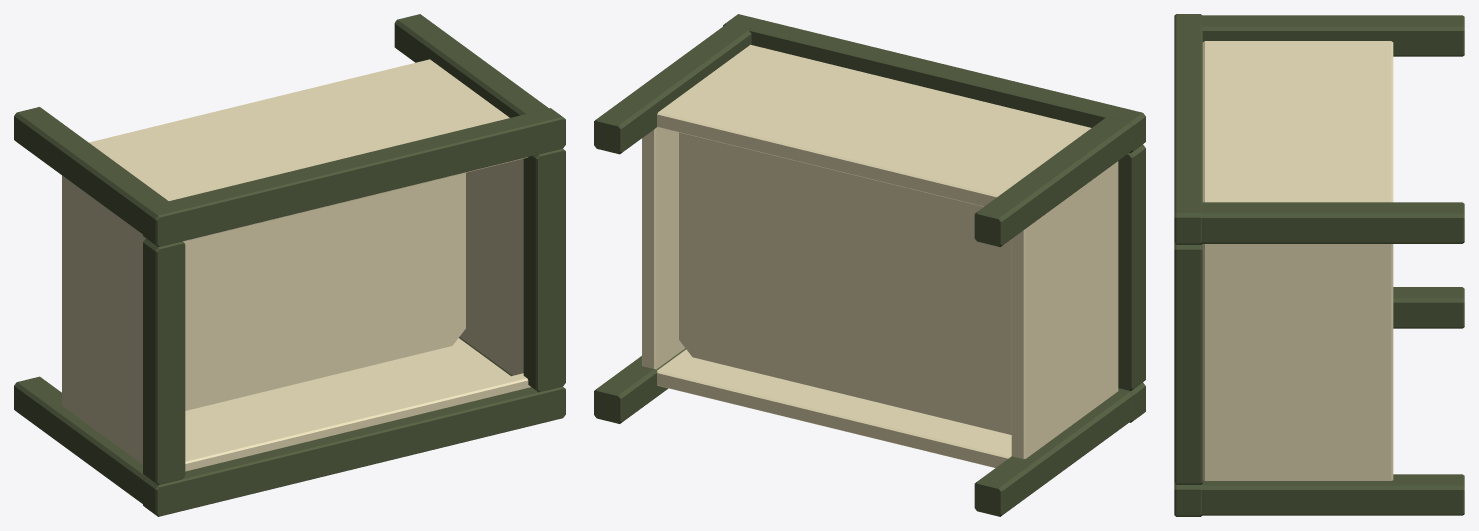
File: fixture_04_promotion_bin.glb
The picture shows the model from 3 angles, left to right: view 1: azimuth 30°, elevation 25°; view 2: azimuth 150°, elevation 25°; view 3: azimuth 270°, elevation 25°; orthographic projection.
Parts seen in each view (by area): view 1: fixture_04_promotion_bin; view 2: fixture_04_promotion_bin; view 3: fixture_04_promotion_bin.
Part boxes in pixels (x1,y1,x2,y2): fixture_04_promotion_bin: (14, 14, 565, 516); fixture_04_promotion_bin: (594, 14, 1145, 516); fixture_04_promotion_bin: (1174, 14, 1464, 516).
Size of what is drawn, in the model's own units: 1 by 0.704 by 0.61.
